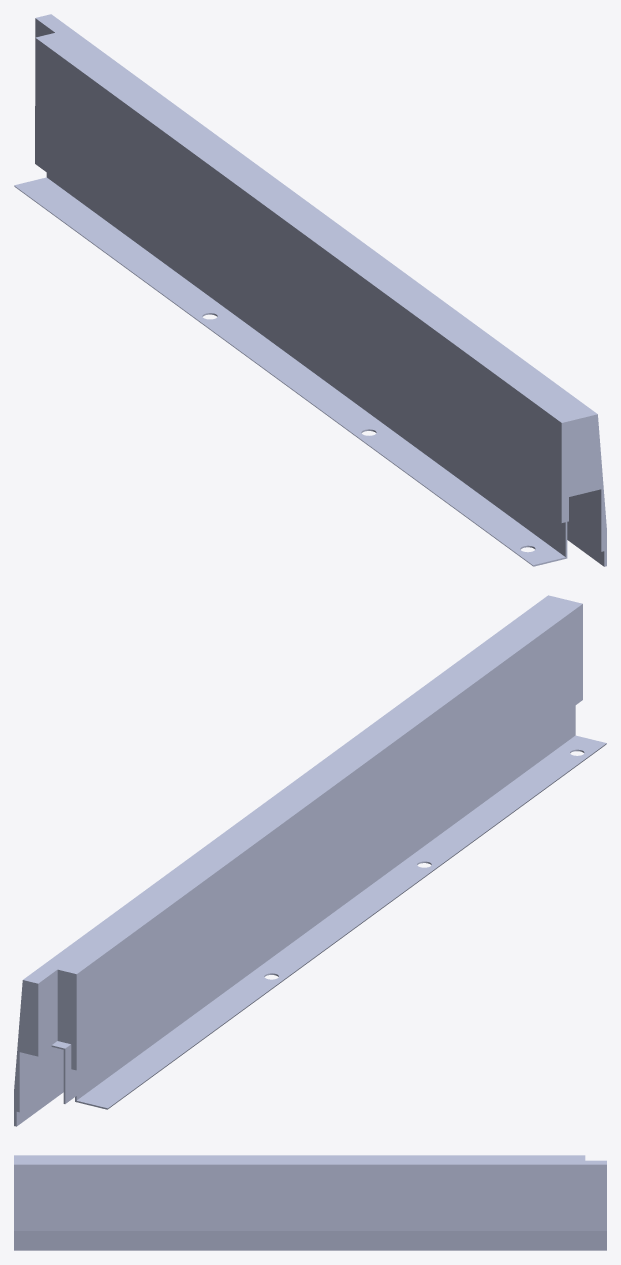
File: mv-kava-N450-m.glb
The picture shows the model from 3 angles, top to bottom: view 1: azimuth 30°, elevation 25°; view 2: azimuth 150°, elevation 25°; view 3: azimuth 270°, elevation 25°; orthographic projection. The views are drawn at different scales.
Visible parts, largest first — view 1: 46285819; view 2: 46285819; view 3: 46285819.
Part boxes in pixels (x1,y1,x2,y2): 46285819: (14,14,606,566); 46285819: (14,595,606,1126); 46285819: (14,1155,606,1250).
Bounding box in the file's own units: 0.0335 × 0.0685 × 0.4402.
